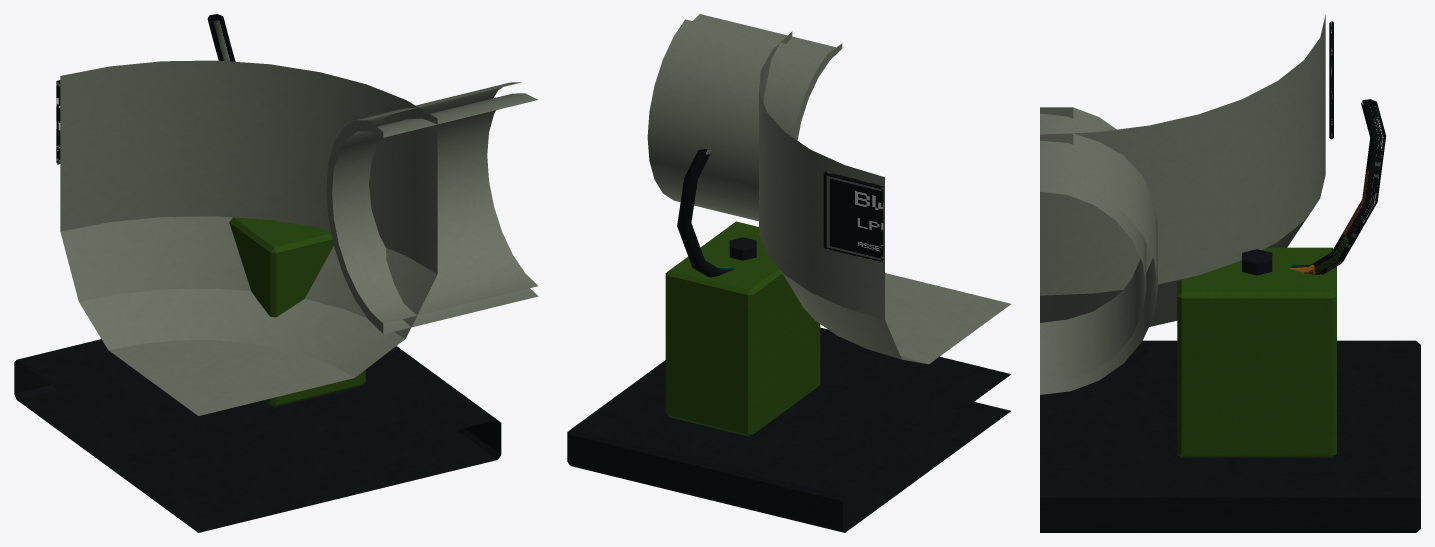
The model's file is cell_2.obj.
The picture shows the model from 3 angles, left to right: view 1: azimuth 30°, elevation 25°; view 2: azimuth 150°, elevation 25°; view 3: azimuth 270°, elevation 25°; orthographic projection. The views are drawn at different scales.
Visible parts, largest first — view 1: cell_2; view 2: cell_2; view 3: cell_2.
Boxes of the visible parts, box(x1,y1,x2,y2) form: cell_2: box(14, 14, 538, 532); cell_2: box(567, 14, 1011, 532); cell_2: box(1040, 15, 1420, 532).
Size of the model in its own units: 1 by 1 by 0.9375.
